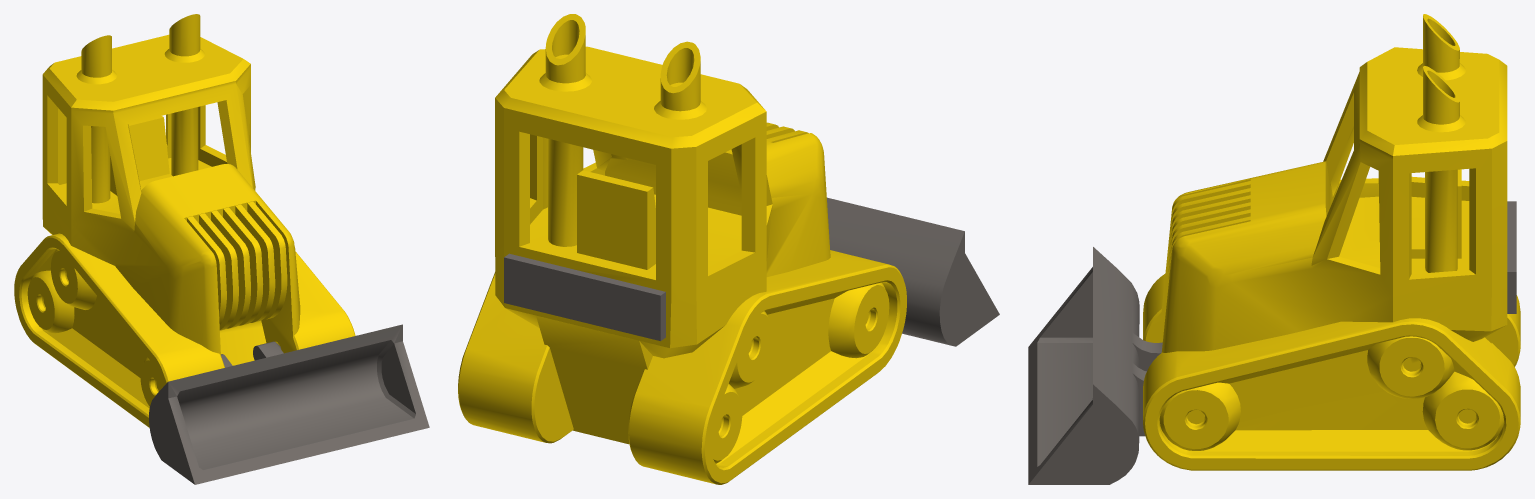
Rendered from bulldozer.fbx.
3 renders of one model, left to right at view 1: azimuth 30°, elevation 25°; view 2: azimuth 150°, elevation 25°; view 3: azimuth 270°, elevation 25°, orthographic. The views are drawn at different scales.
Parts seen in each view (by area): view 1: bulldozer; view 2: bulldozer; view 3: bulldozer.
Part boxes in pixels (<box>): bulldozer: <box>14,14,429,484</box>; bulldozer: <box>458,14,999,484</box>; bulldozer: <box>1028,14,1520,484</box>.
Bounding box in the file's own units: 2474 × 3133 × 3734.
